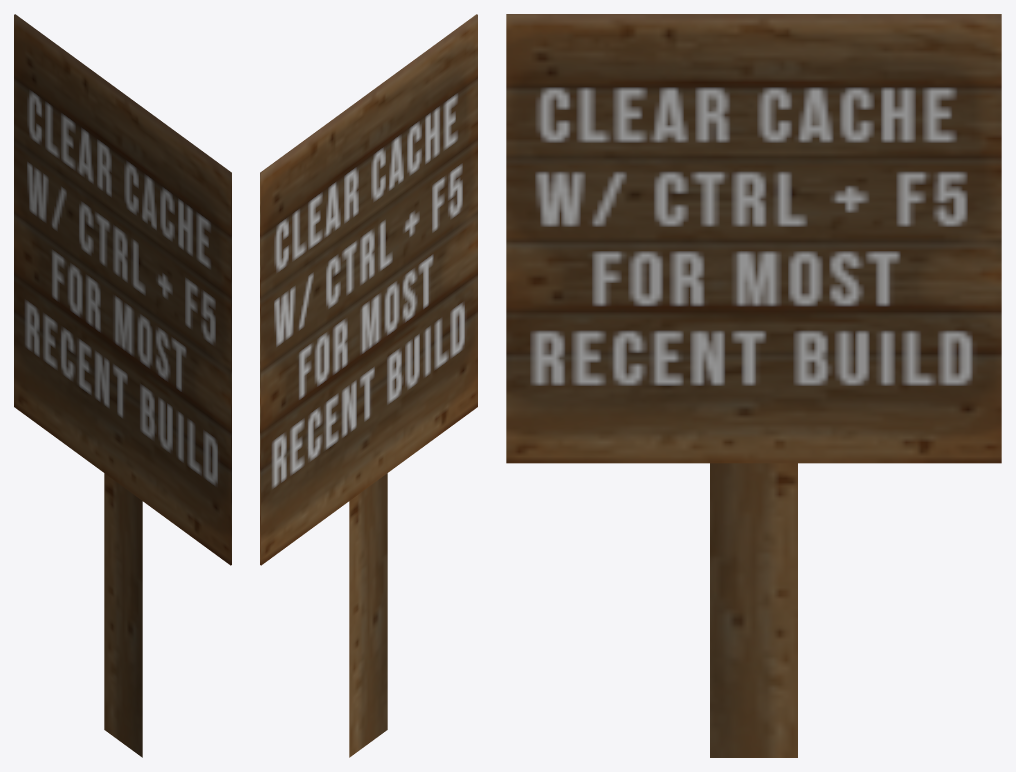
Rendered from lowpolyinfosign1.glb.
The picture shows the model from 3 angles, left to right: view 1: azimuth 30°, elevation 25°; view 2: azimuth 150°, elevation 25°; view 3: azimuth 270°, elevation 25°; orthographic projection. The views are drawn at different scales.
Visible parts, largest first — view 1: info1; view 2: info1; view 3: info1.
Boxes of the visible parts, x1,y1,x2,y2 form: info1: (14, 14, 231, 757); info1: (260, 14, 477, 757); info1: (506, 14, 1001, 757).
Size of the model in its own units: 0.00267 by 1.66 by 1.
Materials: 1 (1 with a texture image).
